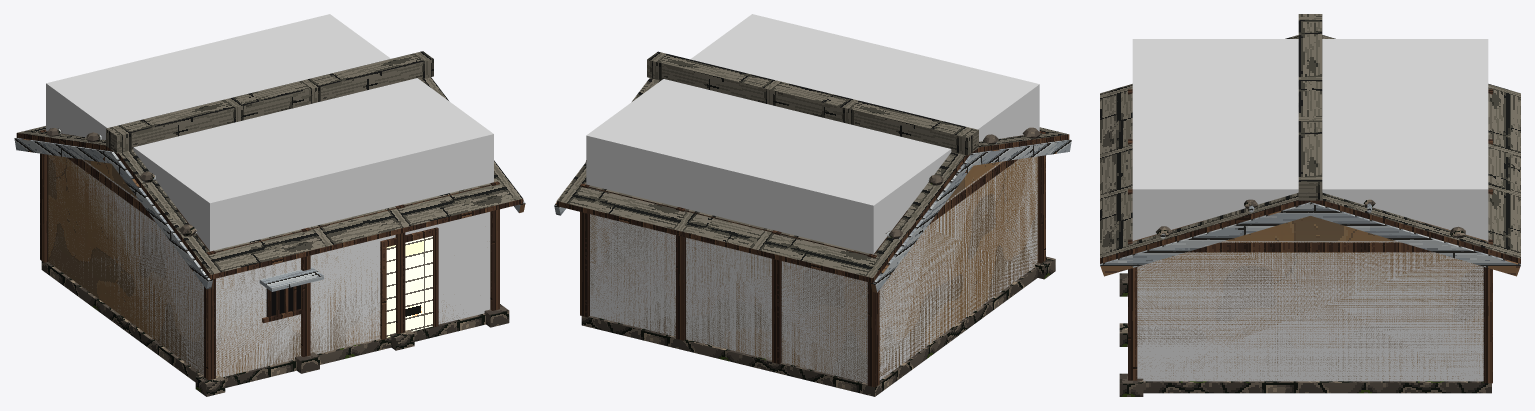
The model's file is JP_Poor_House_B.glb.
3 renders of one model, left to right at view 1: azimuth 30°, elevation 25°; view 2: azimuth 150°, elevation 25°; view 3: azimuth 270°, elevation 25°, orthographic. The views are drawn at different scales.
Parts seen in each view (by area): view 1: COL_JP_Poor_House_B, JP_Poor_House_B; view 2: COL_JP_Poor_House_B, JP_Poor_House_B; view 3: COL_JP_Poor_House_B, JP_Poor_House_B.
Part boxes in pixels (x1=…): COL_JP_Poor_House_B: x1=46, y1=14, x2=493, y2=376; JP_Poor_House_B: x1=14, y1=51, x2=525, y2=396; COL_JP_Poor_House_B: x1=586, y1=14, x2=1039, y2=383; JP_Poor_House_B: x1=554, y1=51, x2=1071, y2=396; COL_JP_Poor_House_B: x1=1132, y1=39, x2=1488, y2=381; JP_Poor_House_B: x1=1100, y1=14, x2=1520, y2=396.
Bounding box in the file's own units: 6.7 × 4.07 × 7.1.
Materials: 7 (7 with a texture image).
